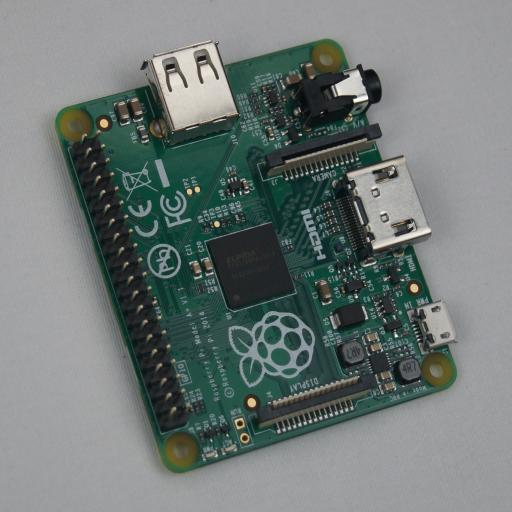Raspberry Pi A-: (55, 39, 457, 473)
